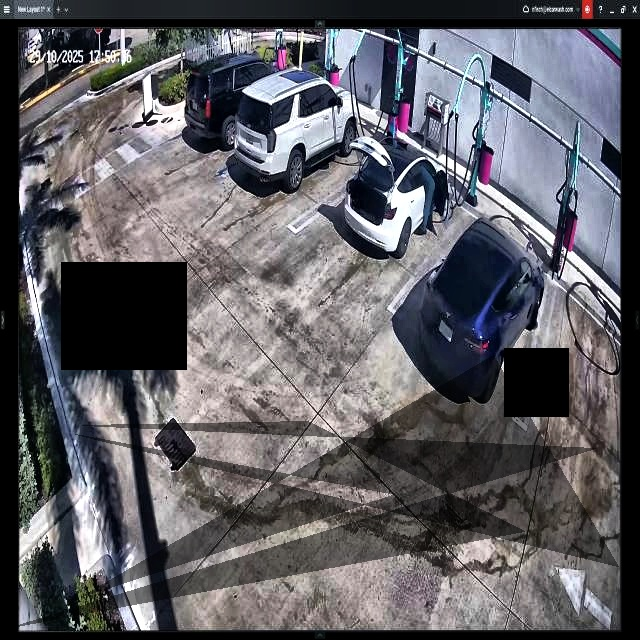Car: (424, 214, 544, 405), (235, 71, 357, 182), (343, 136, 447, 264), (185, 58, 287, 152)
